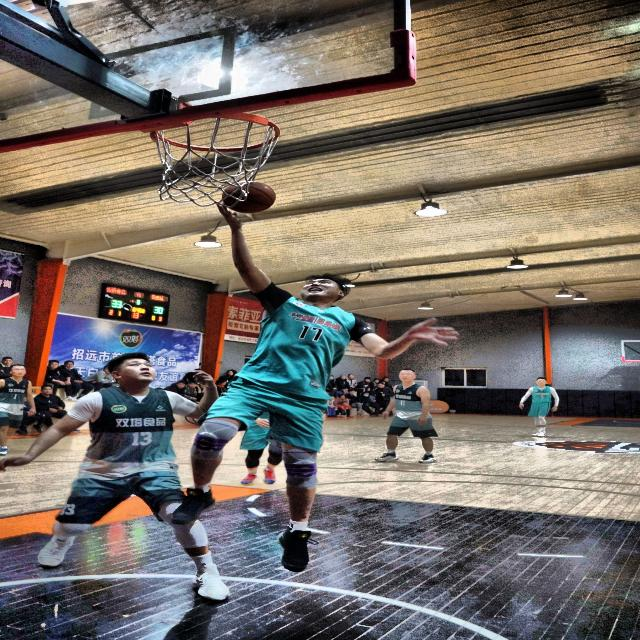board: (214, 179, 280, 215)
rim: (147, 112, 280, 206)
